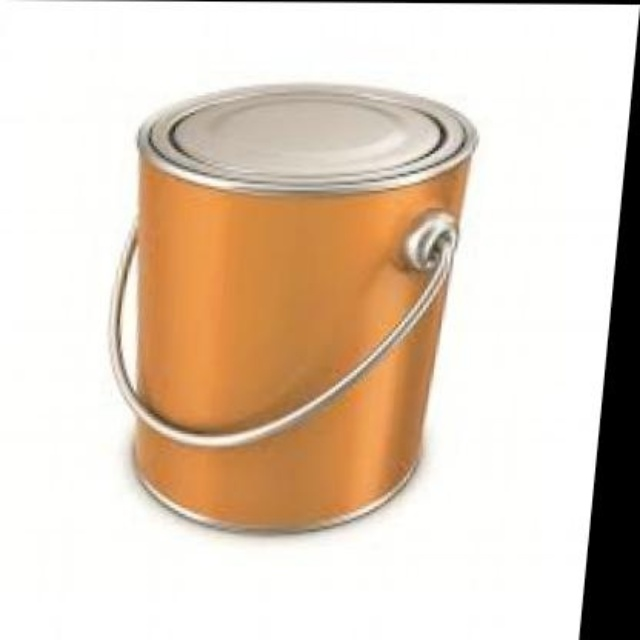trash: (111, 85, 475, 529)
